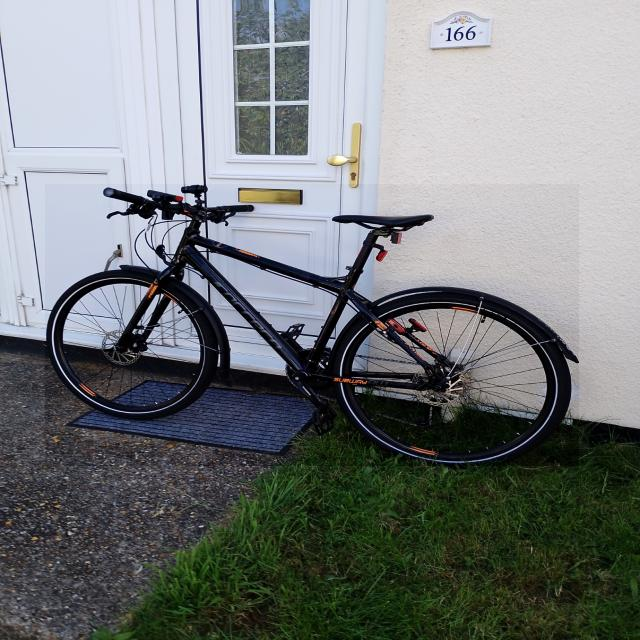bicycle: (45, 184, 579, 466)
